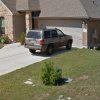Car: (17, 22, 85, 57)
